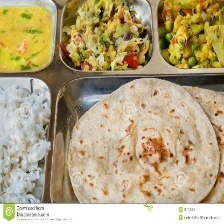dal: (0, 0, 58, 74)
